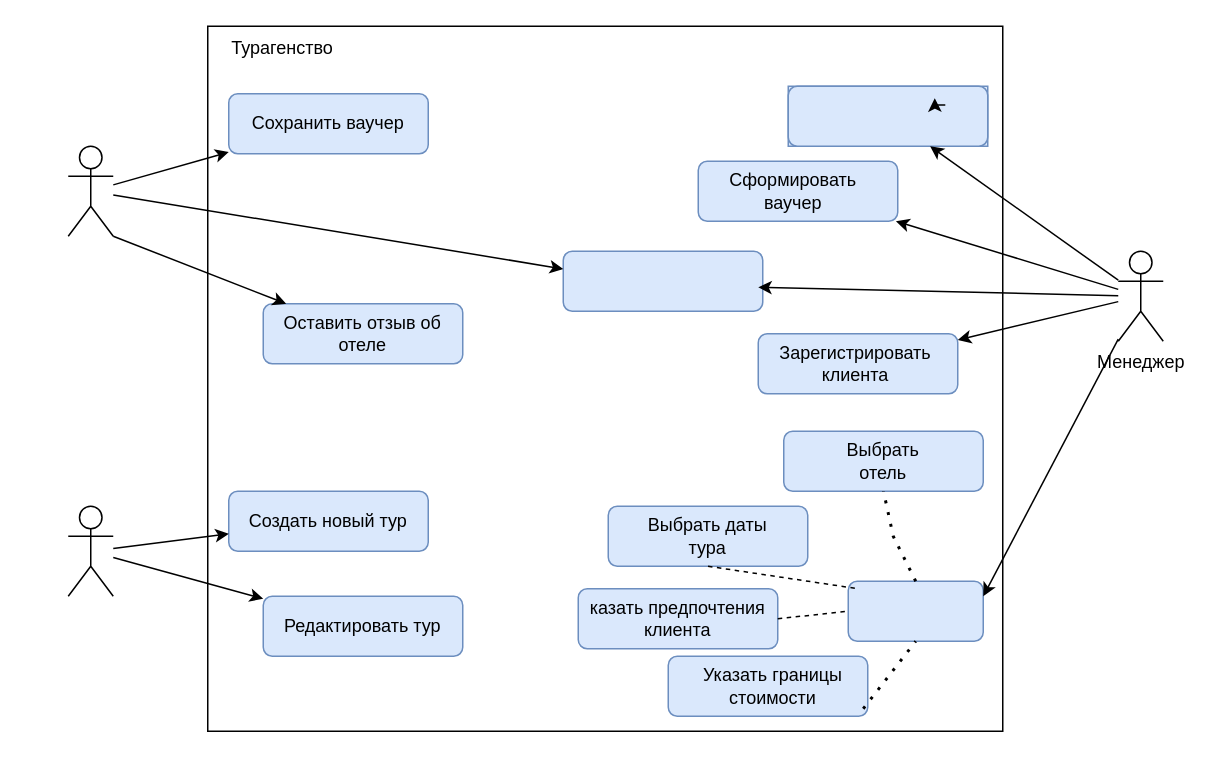
The diagram is 1211 pixels wide and 758 high, and some of its shapes have lost their labels. The shapes that lost their labels are listed below. From the top down, each one's centre as x and y in pixels, then its label:
At pixel 887 115: "Зарегистрировать заявку".
At pixel 90 190: "Клиент".
At pixel 662 280: "Получить информацию по заявке".
At pixel 90 550: "Администратор".
At pixel 915 610: "Выбрать тур".
